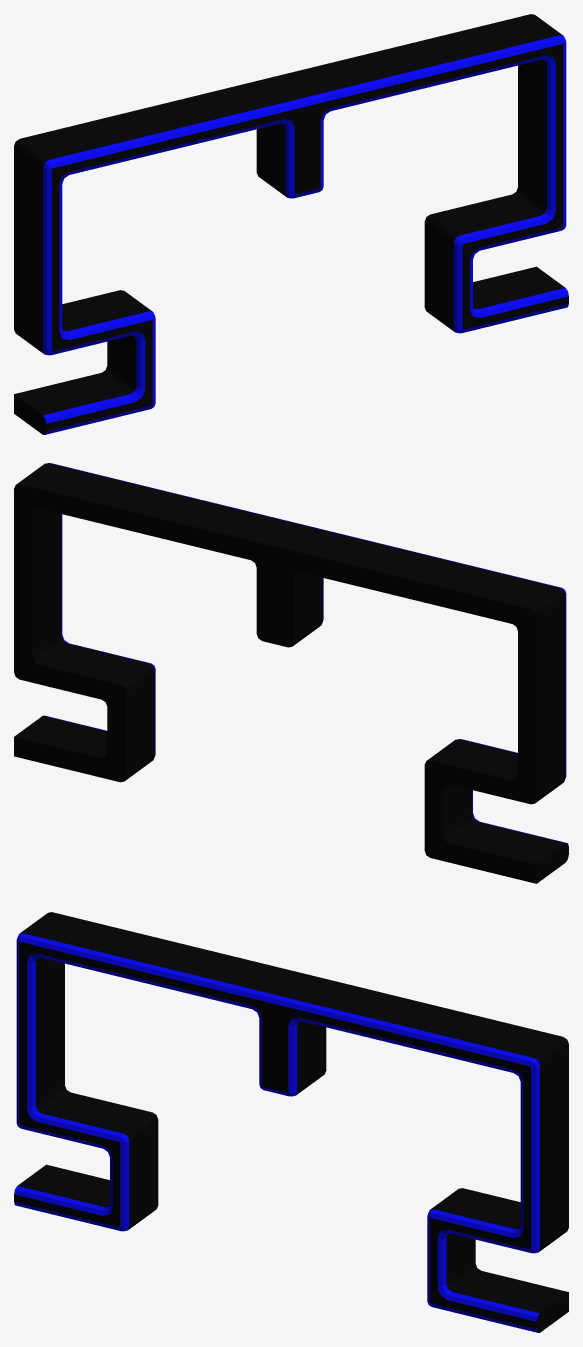
File: 100_TopWall.obj
The picture shows the model from 3 angles, top to bottom: view 1: azimuth 30°, elevation 25°; view 2: azimuth 150°, elevation 25°; view 3: azimuth 330°, elevation 25°; orthographic projection.
Parts seen in each view (by area): view 1: TopWall_Plane.859; view 2: TopWall_Plane.859; view 3: TopWall_Plane.859.
Part boxes in pixels (x1,y1,x2,y2): TopWall_Plane.859: [14, 14, 568, 434]; TopWall_Plane.859: [14, 463, 568, 883]; TopWall_Plane.859: [14, 912, 568, 1332].
Bounding box in the file's own units: 28 × 14 × 3.
